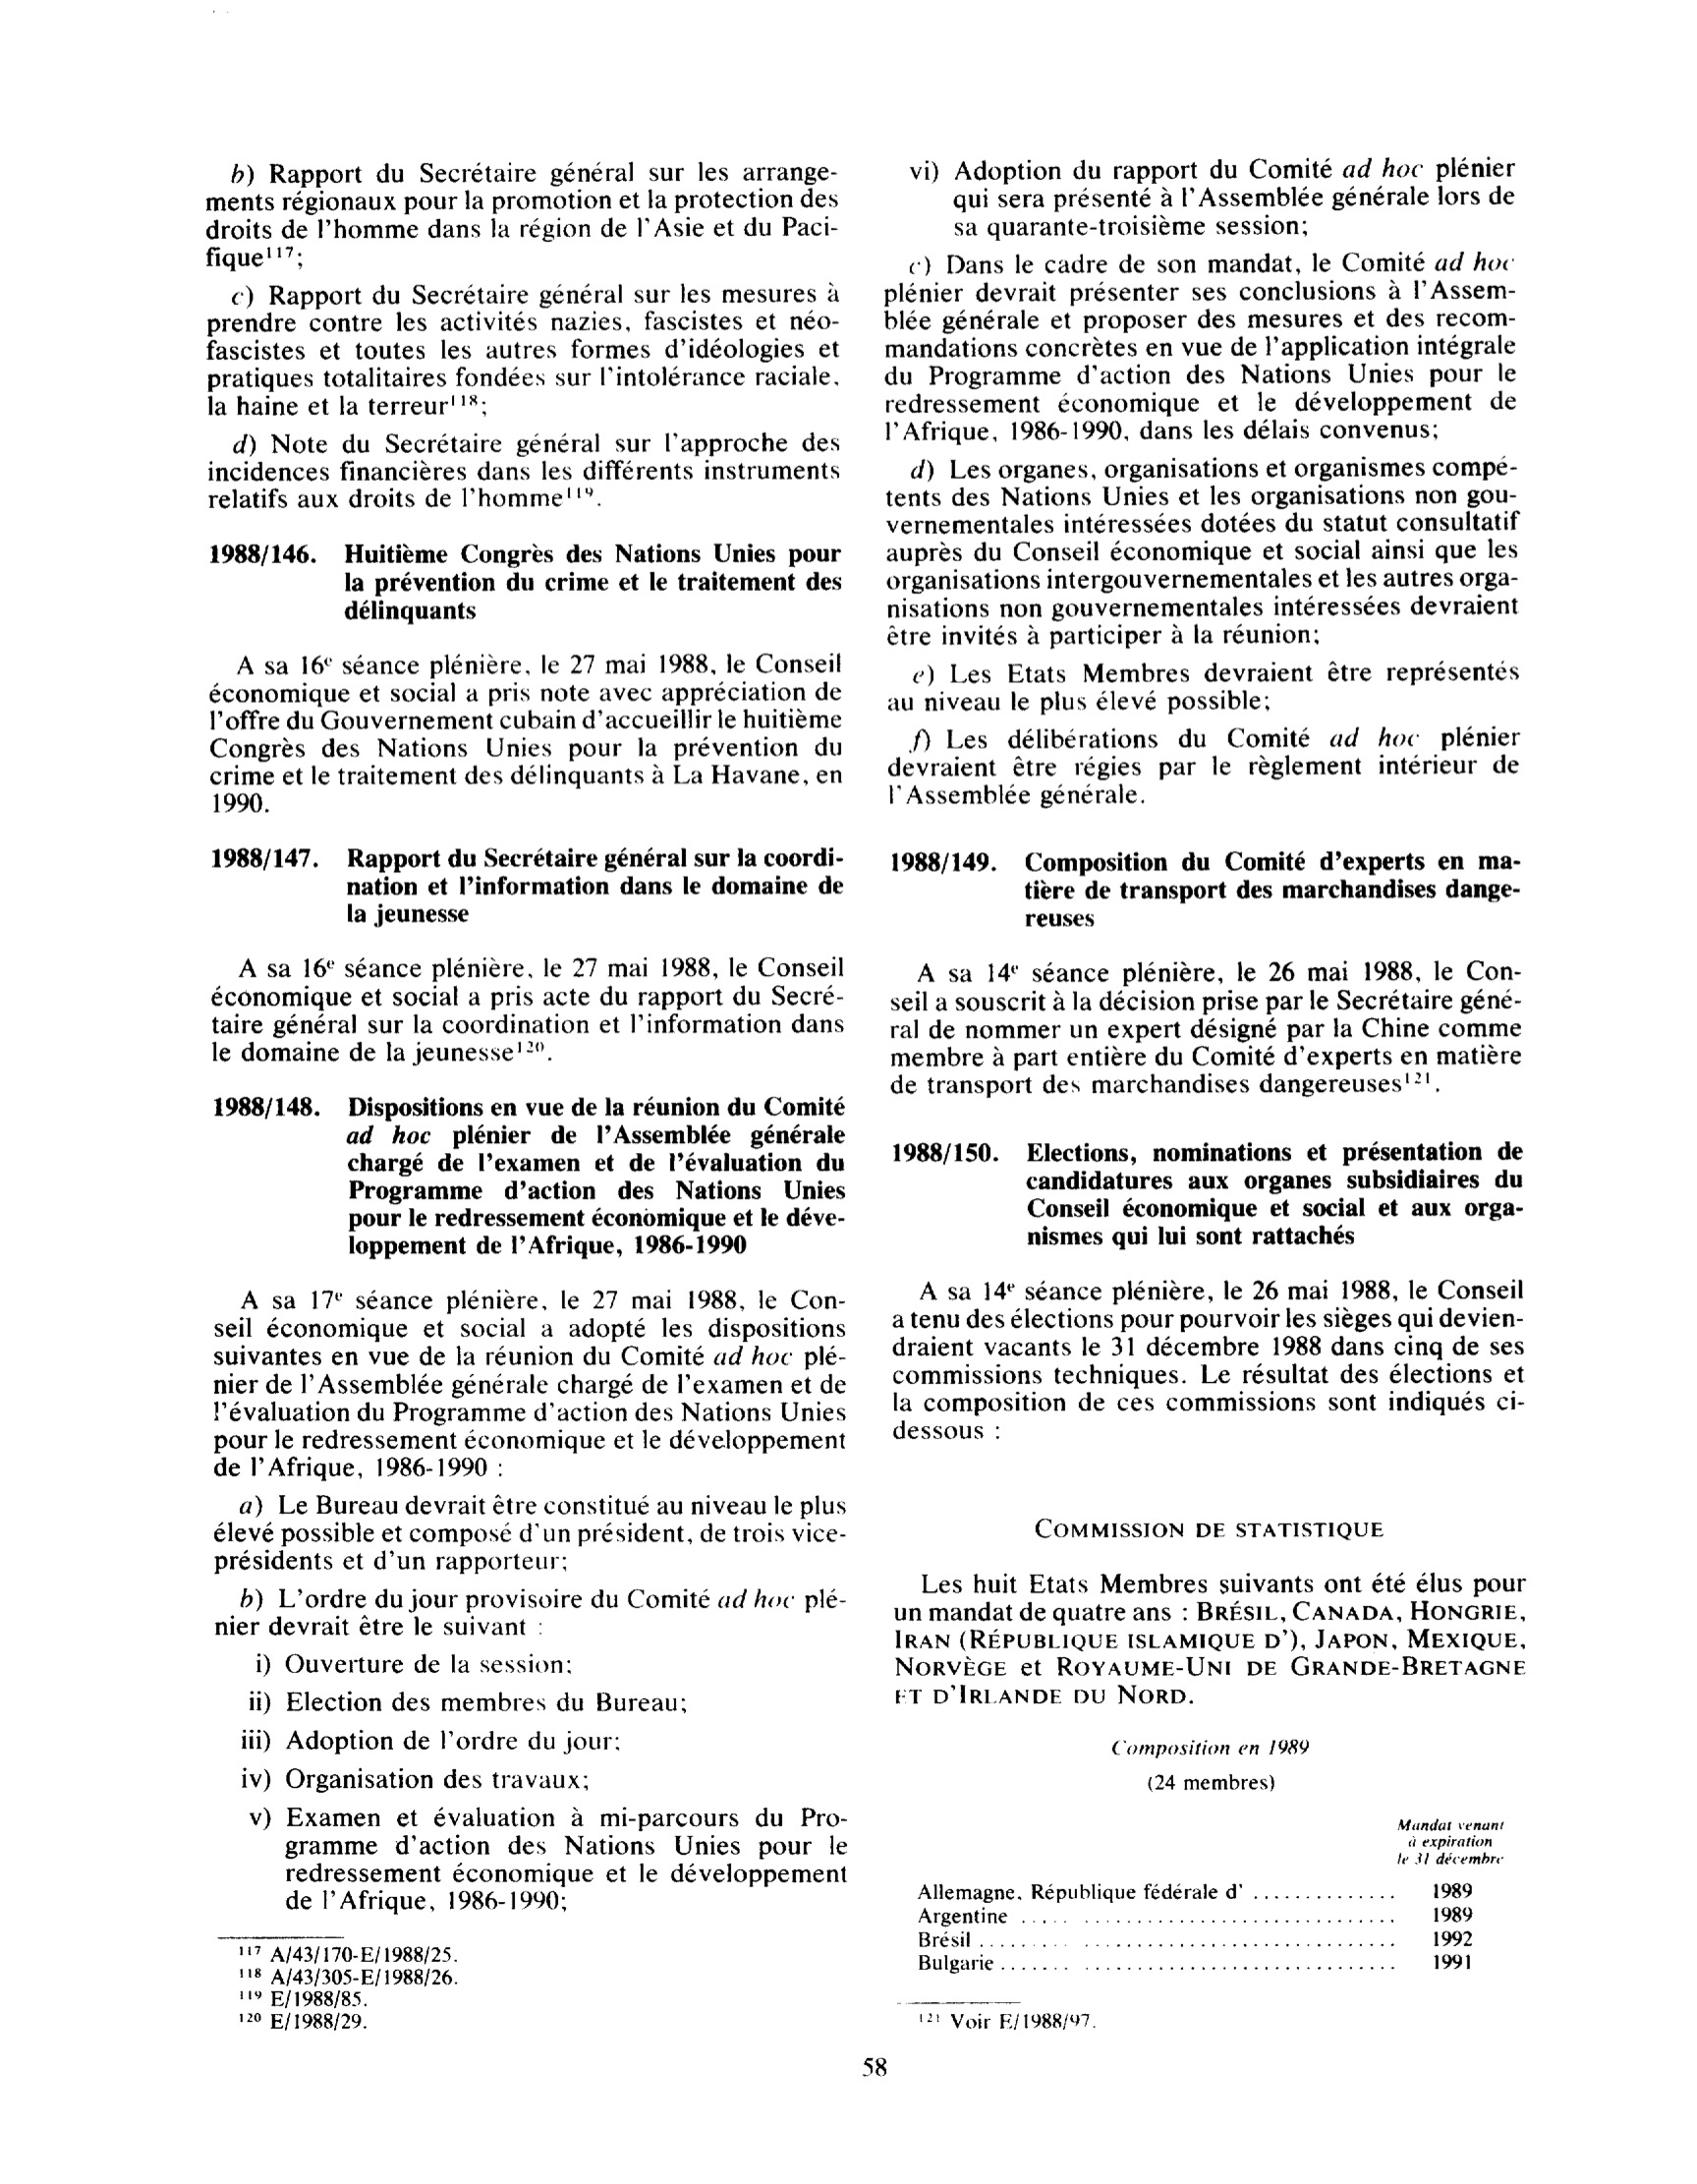MainZone-Head: (205, 1088, 852, 1267), (884, 1133, 1528, 1255), (203, 837, 850, 934), (881, 840, 1527, 937), (201, 535, 847, 630), (1102, 1730, 1321, 1803), (1021, 1510, 1395, 1551)
MainZone-ListItem: (876, 246, 1523, 446), (877, 452, 1525, 651), (199, 278, 849, 422), (196, 153, 846, 274), (231, 1801, 856, 1919), (879, 721, 1528, 814), (205, 1486, 854, 1578), (199, 427, 847, 516), (889, 151, 1524, 242), (205, 1581, 852, 1645), (877, 655, 1526, 718), (227, 1684, 699, 1721), (225, 1761, 634, 1800), (226, 1723, 643, 1759), (225, 1646, 602, 1683)
MainZone-P: (206, 1282, 853, 1481), (884, 1275, 1532, 1453), (202, 647, 848, 820), (886, 1567, 1535, 1714), (883, 953, 1531, 1101), (204, 950, 851, 1068)
MarginTextZone-Notes: (904, 2000, 1102, 2036), (228, 1937, 470, 1966), (233, 1964, 469, 1987), (228, 2007, 375, 2036), (228, 1985, 373, 2009)
NumberingZone: (853, 2050, 897, 2088)
TableZone: (898, 1810, 1519, 1991)
